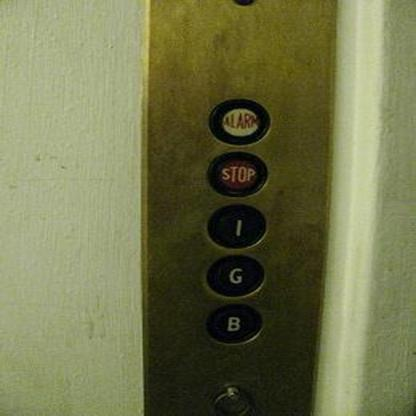1: (206, 203, 267, 250)
B: (204, 303, 262, 343)
G: (206, 254, 264, 297)
stop: (207, 151, 269, 198)
text: (206, 97, 270, 146)
